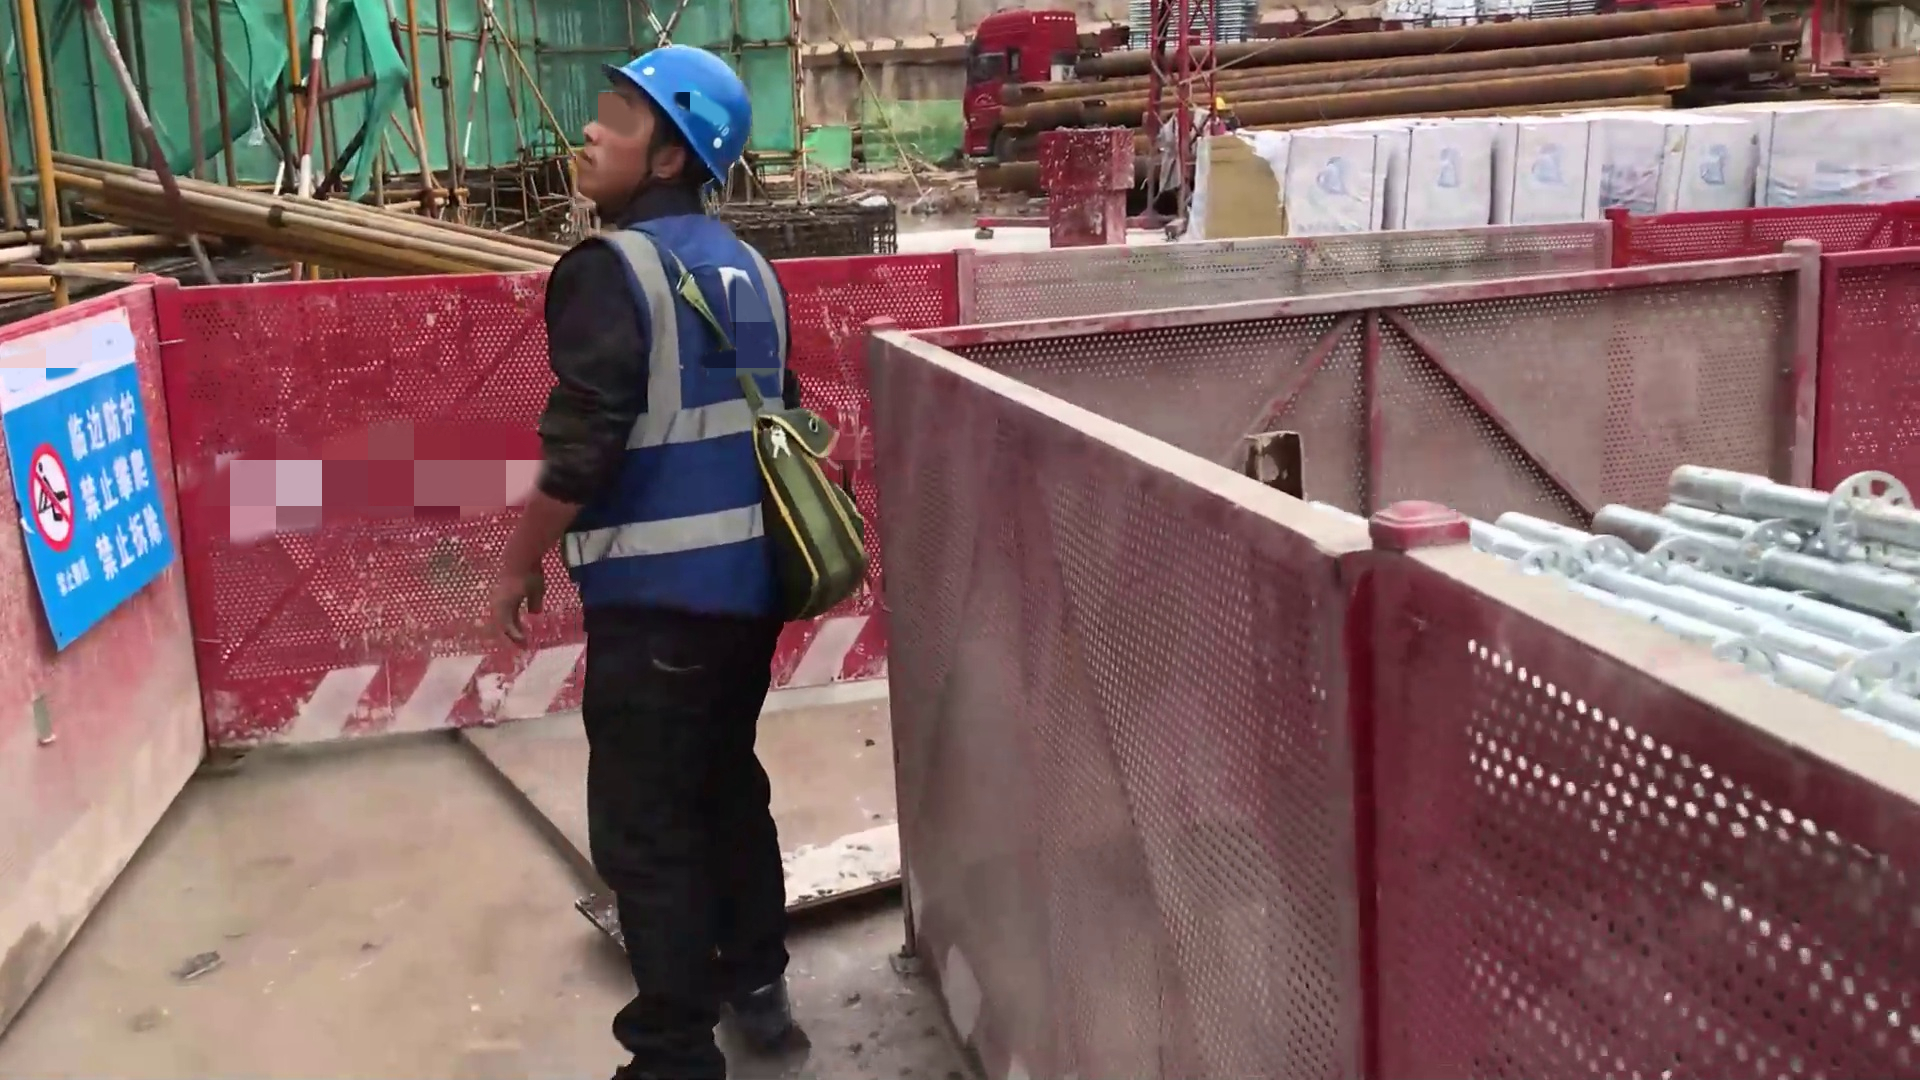fence: (884, 343, 1505, 1069), (195, 279, 544, 754)
helmet: (603, 44, 758, 190)
person: (488, 41, 882, 1080)
slogan: (1, 300, 178, 668)
vest: (556, 209, 823, 638)
